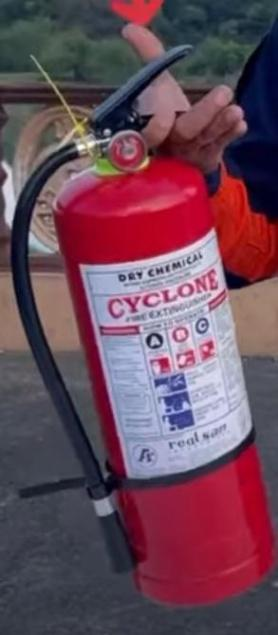APAR: (54, 42, 277, 606)
